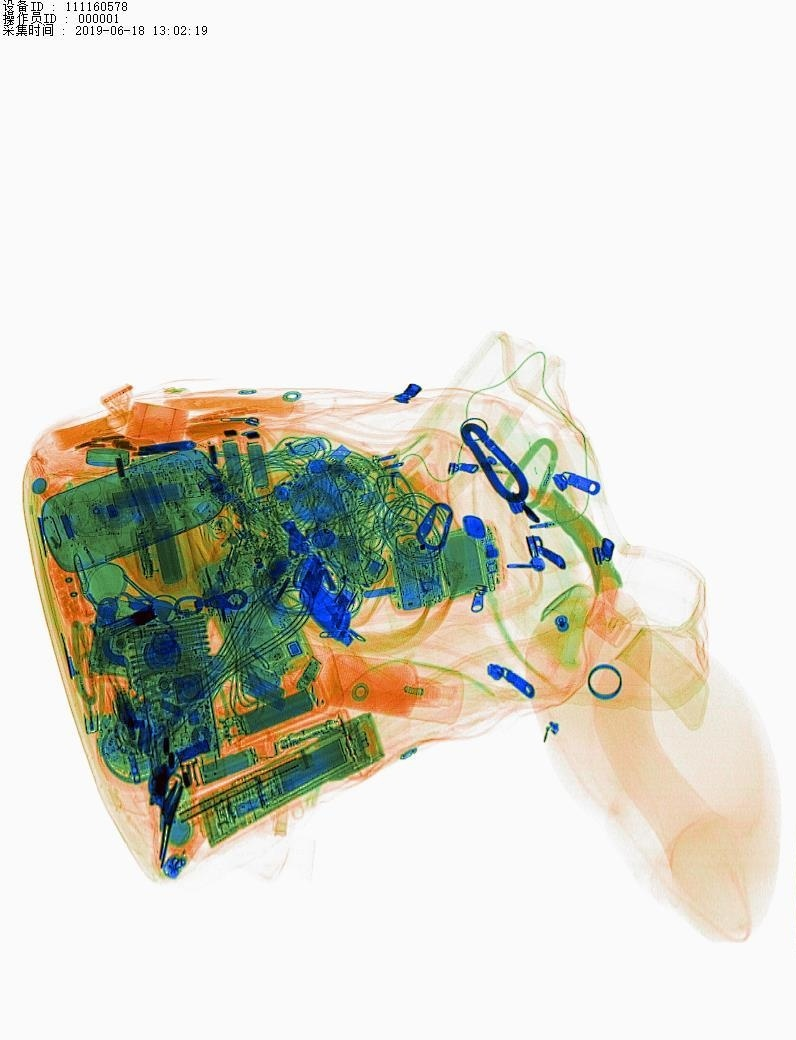NonmetallicFire: (62, 633, 120, 778), (151, 808, 229, 890)
